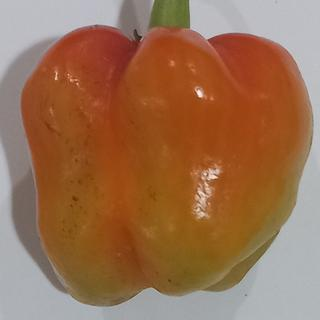Grade-B: (14, 19, 317, 309)
